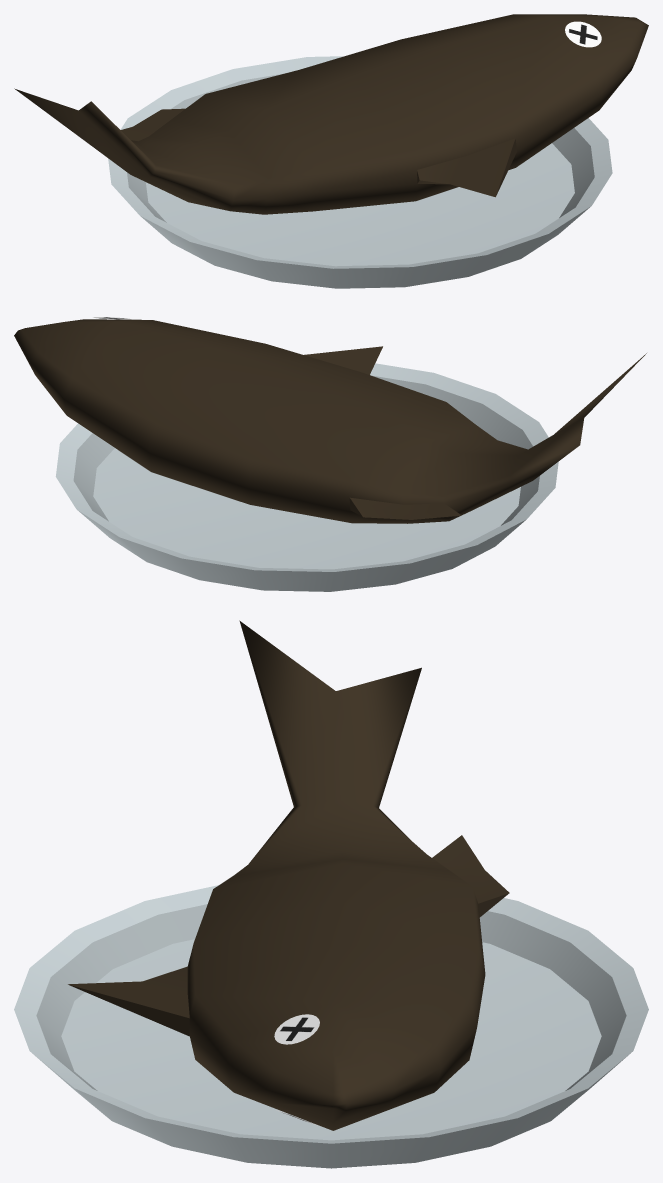
The model's file is yakizakana.fbx.
3 renders of one model, top to bottom at view 1: azimuth 30°, elevation 25°; view 2: azimuth 150°, elevation 25°; view 3: azimuth 270°, elevation 25°, orthographic. The views are drawn at different scales.
Visible parts, largest first — view 1: yakiszakana; view 2: yakiszakana; view 3: yakiszakana.
Part boxes in pixels (x1,y1,x2,y2): yakiszakana: (14,14,648,288); yakiszakana: (14,317,646,591); yakiszakana: (14,620,648,1168).
Size of the model in its own units: 104 by 34.49 by 76.28.
